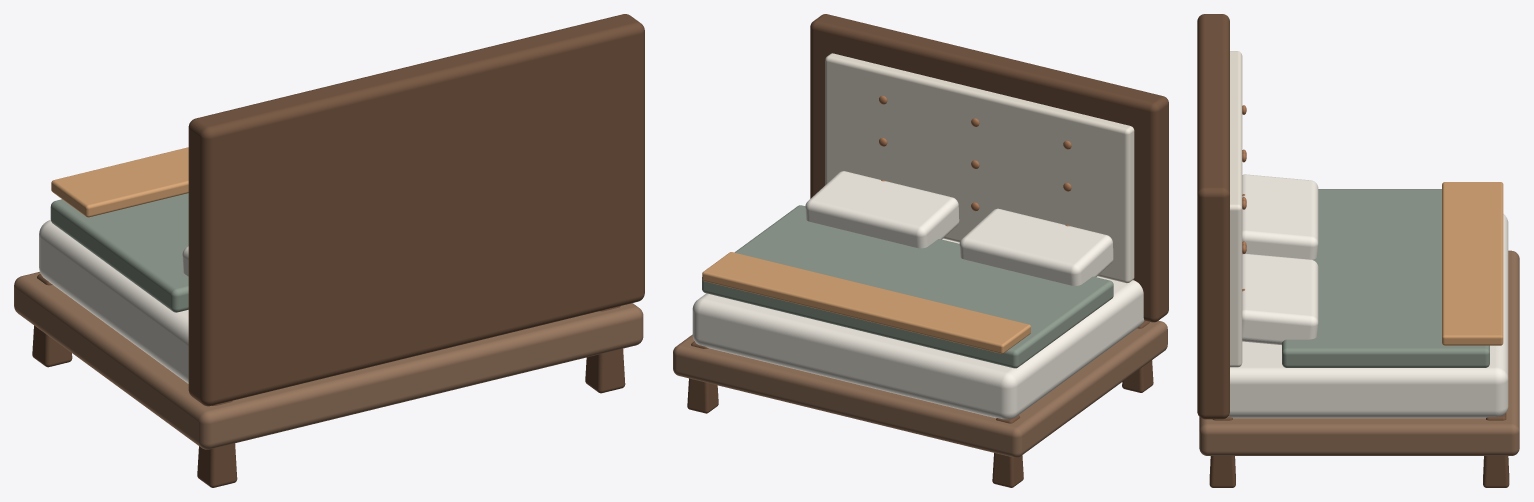
The model's file is w25-deep-walnut-upholstered-bed.glb.
3 views of the same model, side by side, from view 1: azimuth 30°, elevation 25°; view 2: azimuth 150°, elevation 25°; view 3: azimuth 270°, elevation 25° (orthographic). The views are drawn at different scales.
Parts seen in each view (by area): view 1: headboard_outer, platform, mattress, duvet, foot_throw, foot_-0.91_0.67, foot_0.91_0.67, foot_-0.91_-0.67; view 2: headboard_inner, mattress, duvet, headboard_outer, platform, foot_throw, pillow_-0.46, pillow_0.46, foot_-0.91_-0.67, foot_0.91_-0.67, foot_-0.91_0.67; view 3: duvet, mattress, platform, headboard_outer, foot_throw, pillow_0.46, pillow_-0.46, headboard_inner, foot_0.91_-0.67, foot_0.91_0.67.
Boxes of the visible parts, bbox=[...] form: headboard_outer: bbox=[188, 14, 644, 406]; platform: bbox=[14, 271, 643, 449]; mattress: bbox=[39, 220, 188, 383]; duvet: bbox=[50, 193, 188, 312]; foot_throw: bbox=[51, 147, 188, 217]; foot_-0.91_0.67: bbox=[197, 400, 237, 487]; foot_0.91_0.67: bbox=[585, 306, 625, 393]; foot_-0.91_-0.67: bbox=[32, 274, 72, 367]; headboard_inner: bbox=[825, 53, 1134, 283]; mattress: bbox=[692, 238, 1144, 419]; duvet: bbox=[702, 205, 1113, 368]; headboard_outer: bbox=[810, 14, 1168, 322]; platform: bbox=[673, 320, 1167, 457]; foot_throw: bbox=[702, 252, 1030, 353]; pillow_-0.46: bbox=[959, 208, 1113, 285]; pillow_0.46: bbox=[805, 171, 959, 248]; foot_-0.91_-0.67: bbox=[992, 415, 1023, 487]; foot_0.91_-0.67: bbox=[687, 341, 718, 413]; foot_-0.91_0.67: bbox=[1122, 320, 1153, 392]; duvet: bbox=[1282, 189, 1489, 367]; mattress: bbox=[1228, 214, 1508, 418]; platform: bbox=[1199, 250, 1519, 455]; headboard_outer: bbox=[1197, 14, 1229, 419]; foot_throw: bbox=[1442, 182, 1503, 345]; pillow_0.46: bbox=[1242, 253, 1318, 345]; pillow_-0.46: bbox=[1242, 174, 1318, 259]; headboard_inner: bbox=[1230, 51, 1242, 367]; foot_0.91_-0.67: bbox=[1483, 413, 1509, 487]; foot_0.91_0.67: bbox=[1209, 417, 1235, 487].
Bounding box in the file's own units: 2.08 × 1.64 × 1.58.
